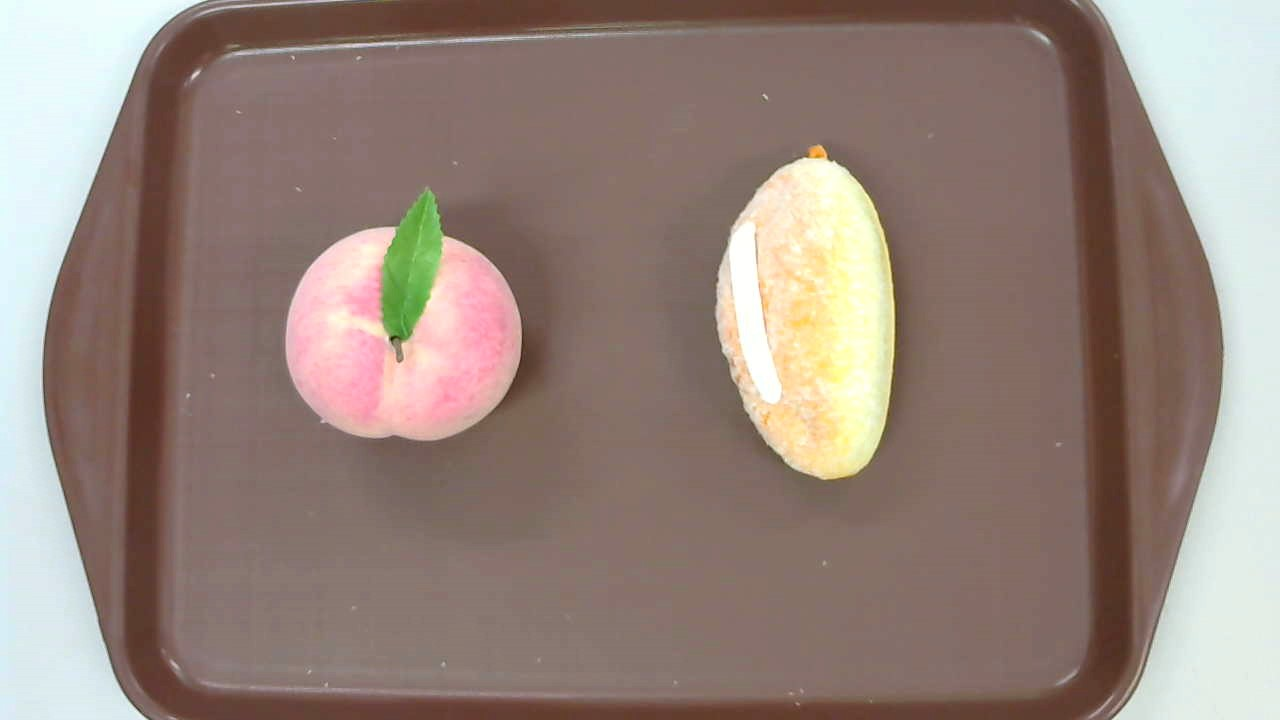coconut: (716, 144, 897, 483)
peach: (285, 187, 522, 442)
